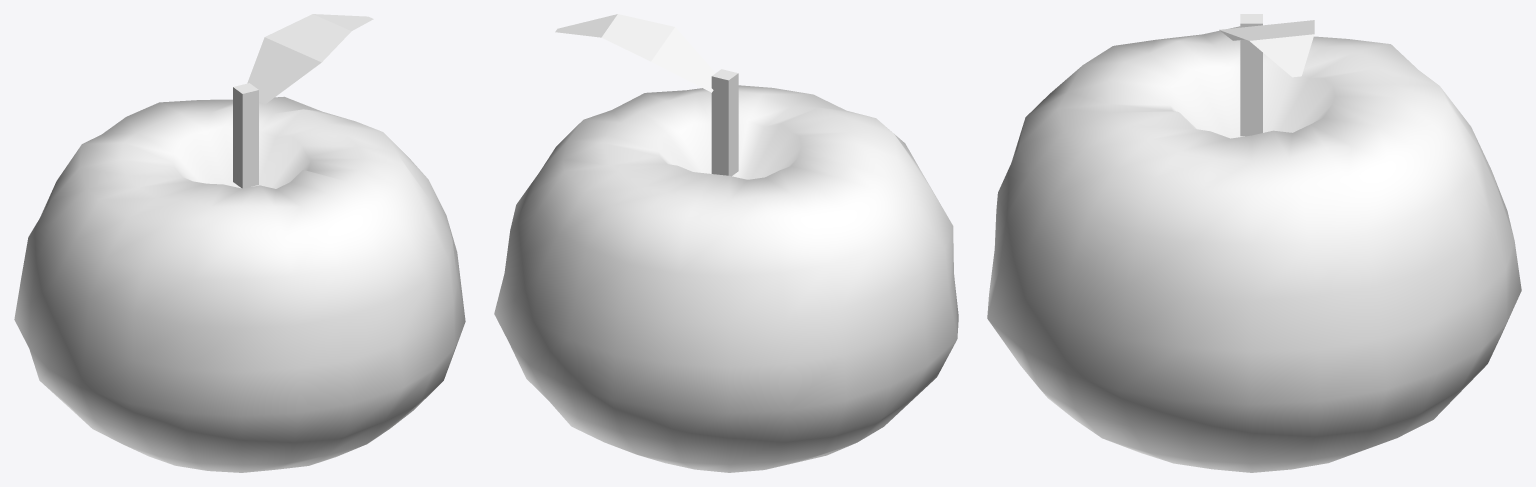
Rendered from apple.glb.
3 views of the same model, side by side, from view 1: azimuth 30°, elevation 25°; view 2: azimuth 150°, elevation 25°; view 3: azimuth 270°, elevation 25° (orthographic). The views are drawn at different scales.
Parts seen in each view (by area): view 1: Apple; view 2: Apple; view 3: Apple.
Part boxes in pixels (x1,y1,x2,y2): Apple: (14, 14, 465, 472); Apple: (494, 14, 958, 472); Apple: (987, 14, 1521, 472).
Size of the model in its own units: 0.095 by 0.0874 by 0.0944.
1 material, 1 textured.
